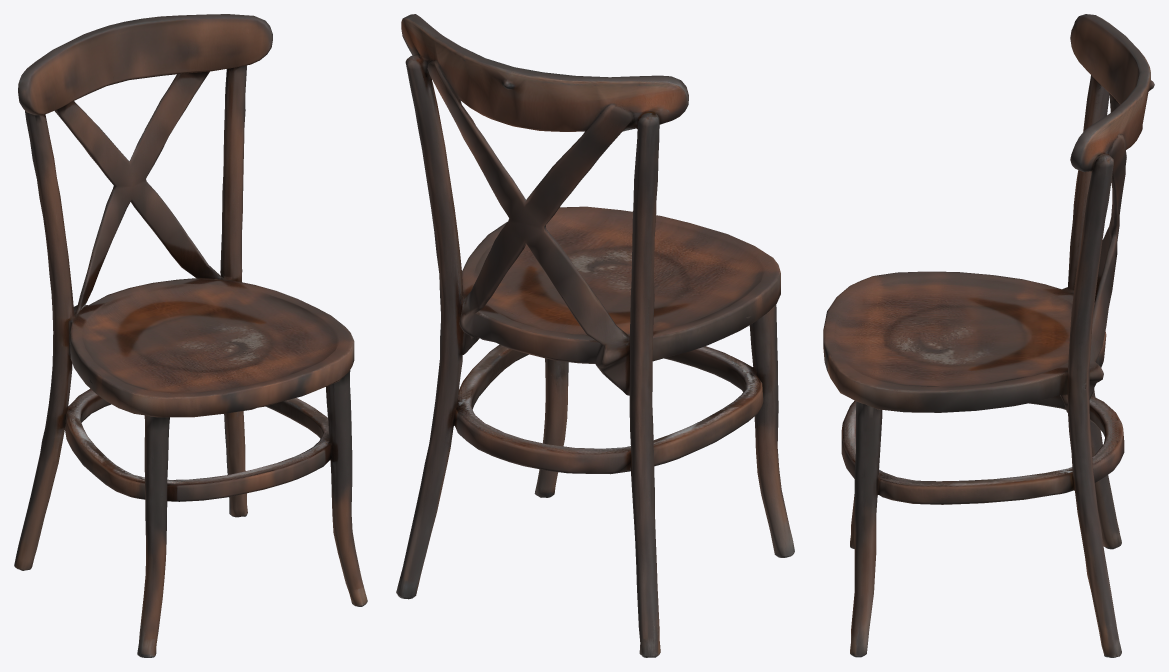
File: Chair_Tuscan_Brown_0320031522_texture.glb
3 renders of one model, left to right at view 1: azimuth 30°, elevation 25°; view 2: azimuth 150°, elevation 25°; view 3: azimuth 270°, elevation 25°, orthographic. The views are drawn at different scales.
Visible parts, largest first — view 1: Mesh_0.002; view 2: Mesh_0.002; view 3: Mesh_0.002.
Part boxes in pixels (box(x1,y1,x2,y2)): Mesh_0.002: box(14, 14, 367, 657); Mesh_0.002: box(396, 14, 794, 657); Mesh_0.002: box(823, 14, 1154, 657).
Bounding box in the file's own units: 0.4798 × 0.9144 × 0.5174.
1 material, 1 textured.
